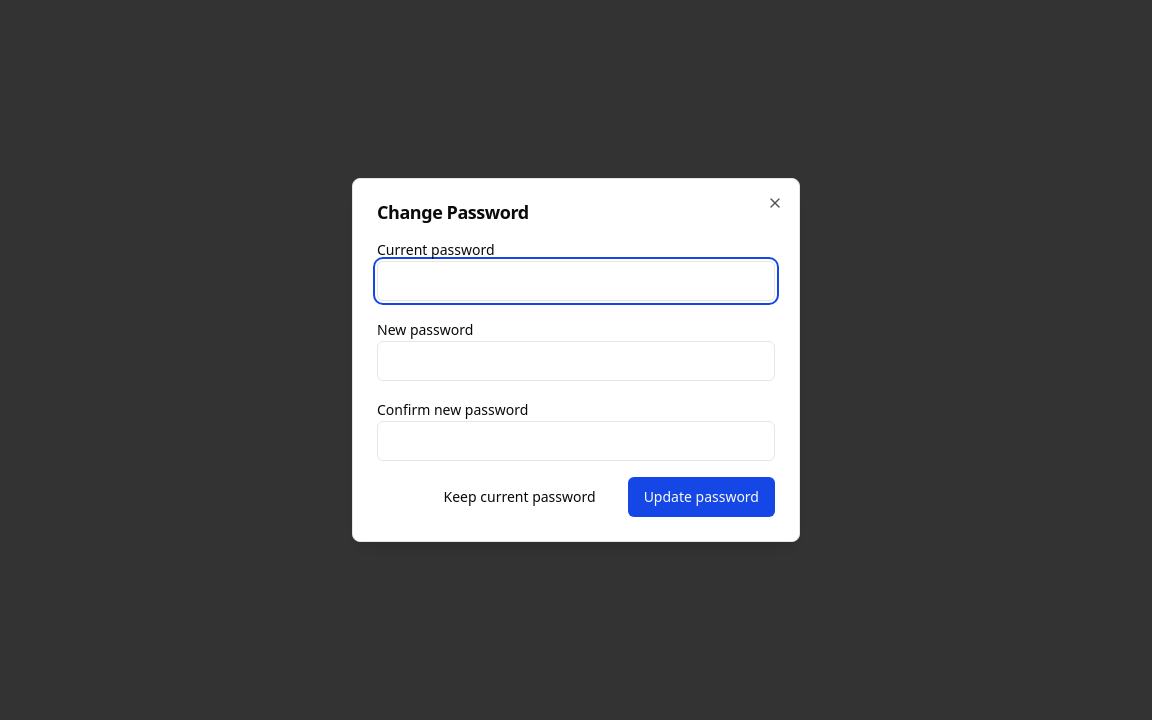
ChangePasswordDialog › on 401 error, shows "Current password is incorrect."
This screenshot has width=1152, height=720.
In the password field labelled "Current password": (576, 281) top-left (377, 261), bottom-right (775, 301), type "wrong"
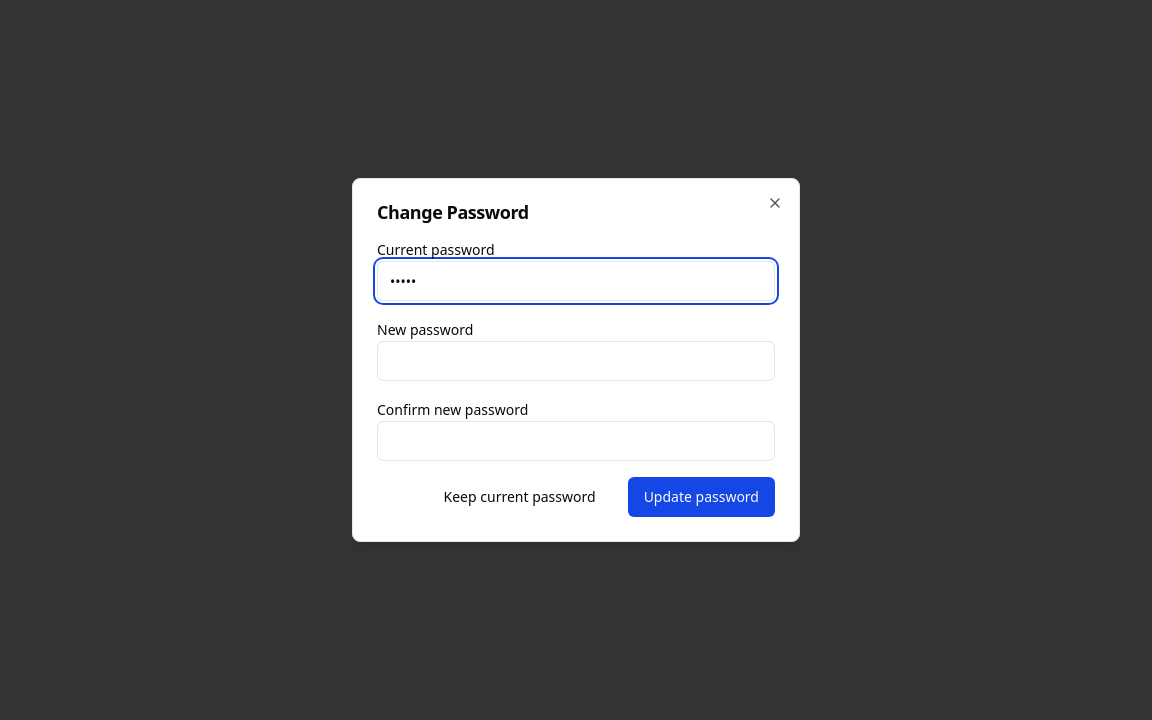
In the password field labelled "New password": (576, 361) top-left (377, 341), bottom-right (775, 381), type "newpass12"
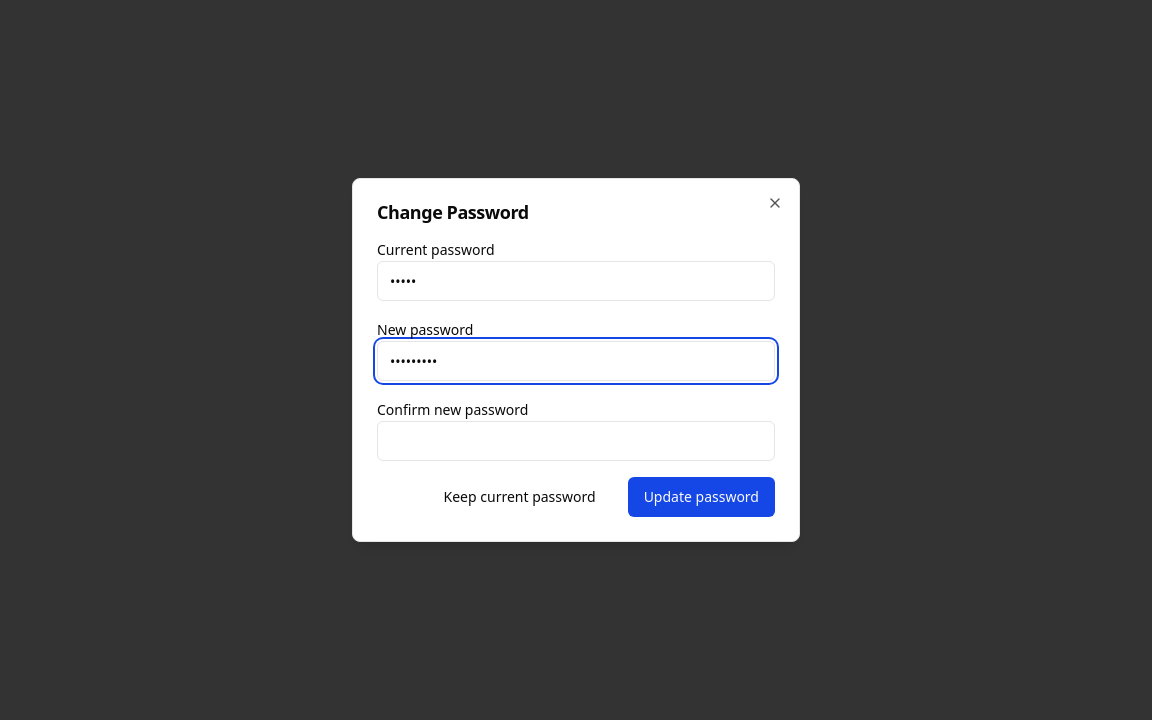
In the password field labelled "Confirm new password": (576, 441) top-left (377, 421), bottom-right (775, 461), type "newpass12"
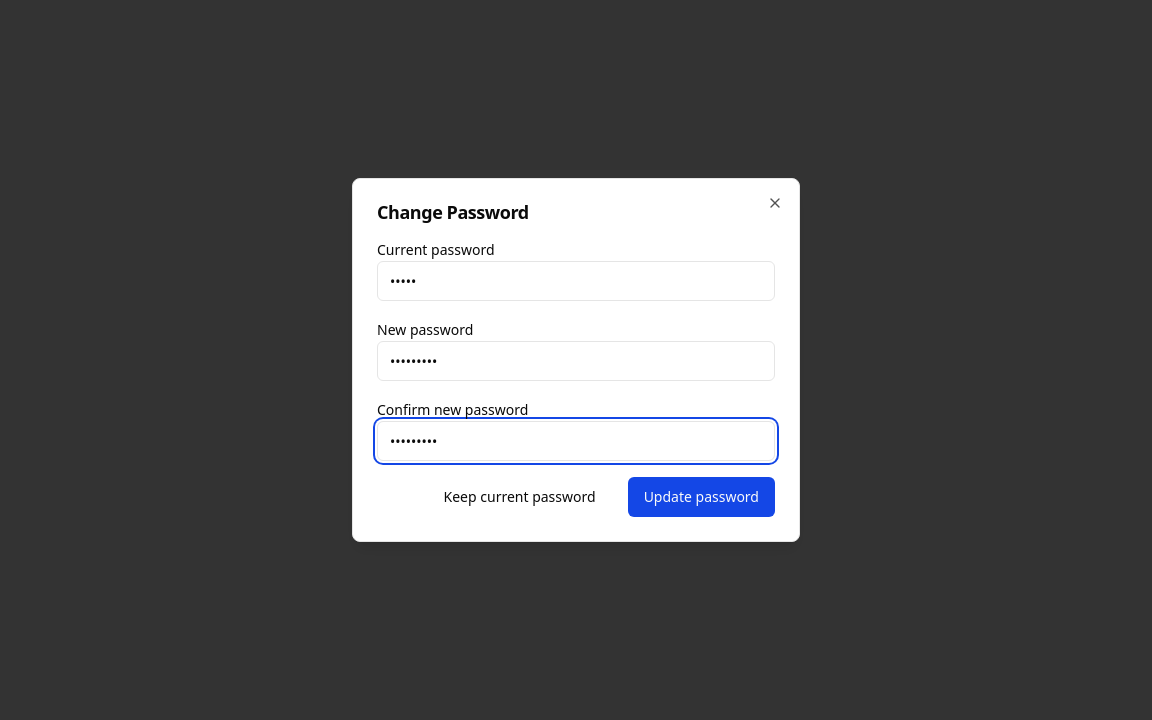
Click the button "Update password": (701, 497) top-left (628, 477), bottom-right (775, 517)
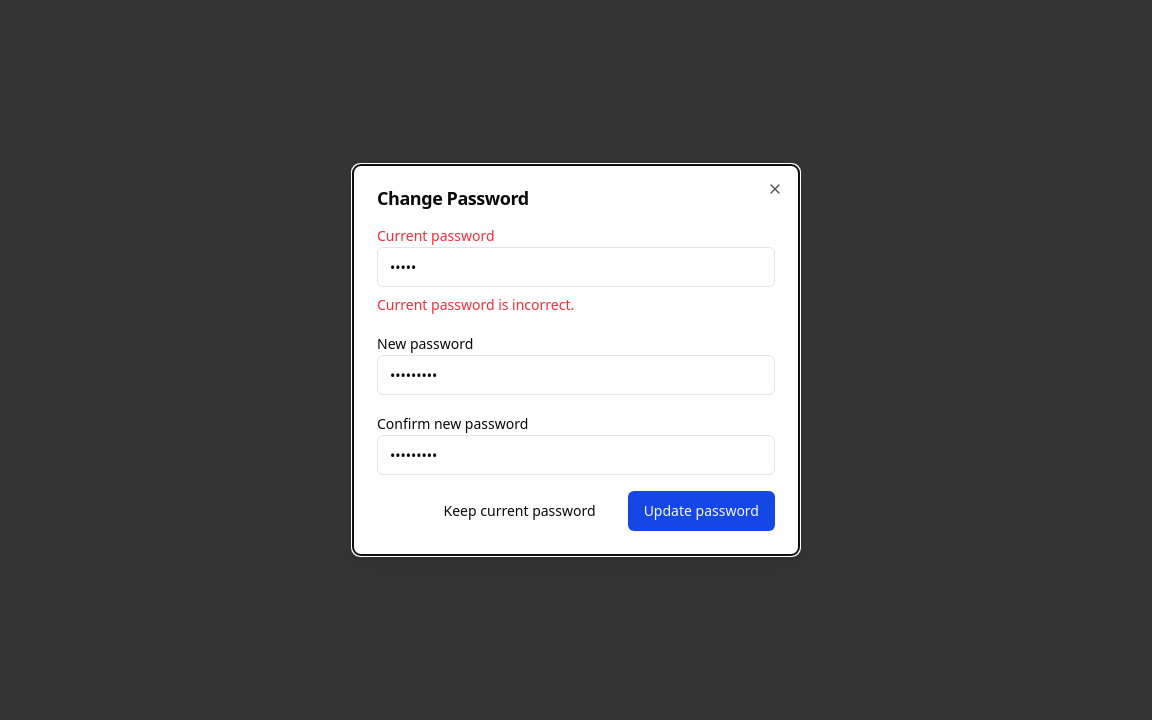
Now the text "Current password is incorrect." is shown, box top-left (377, 295), bottom-right (574, 314)
